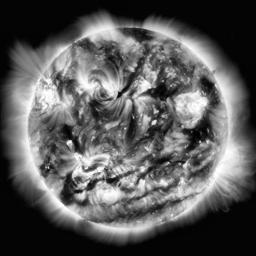solar flares: (173, 96, 206, 124), (76, 154, 106, 181), (35, 86, 61, 112), (94, 184, 123, 206), (104, 80, 124, 101), (80, 77, 98, 96)
sunspots: (185, 124, 212, 145), (65, 124, 83, 150), (200, 79, 217, 104), (65, 174, 78, 204), (145, 85, 169, 100), (151, 154, 175, 169), (124, 112, 137, 139), (89, 104, 105, 125), (124, 29, 149, 42), (104, 48, 120, 66), (147, 119, 163, 136)
